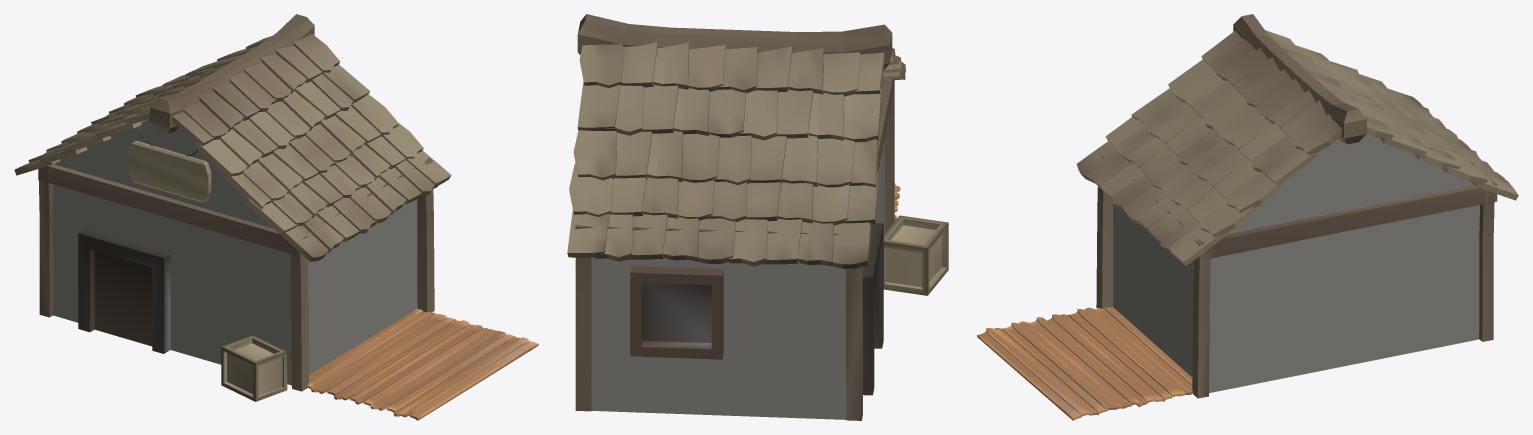
The model's file is House02.fbx.
The picture shows the model from 3 angles, left to right: view 1: azimuth 30°, elevation 25°; view 2: azimuth 150°, elevation 25°; view 3: azimuth 270°, elevation 25°; orthographic projection. The views are drawn at different scales.
Visible parts, largest first — view 1: House02_LOD0; view 2: House02_LOD0; view 3: House02_LOD0.
Boxes of the visible parts, left/top/right/bottom form: House02_LOD0: left=14, top=14, right=538, bottom=420; House02_LOD0: left=567, top=14, right=948, bottom=420; House02_LOD0: left=977, top=14, right=1518, bottom=420.
Size of what is drawn, in the model's own units: 236 by 161 by 302.
